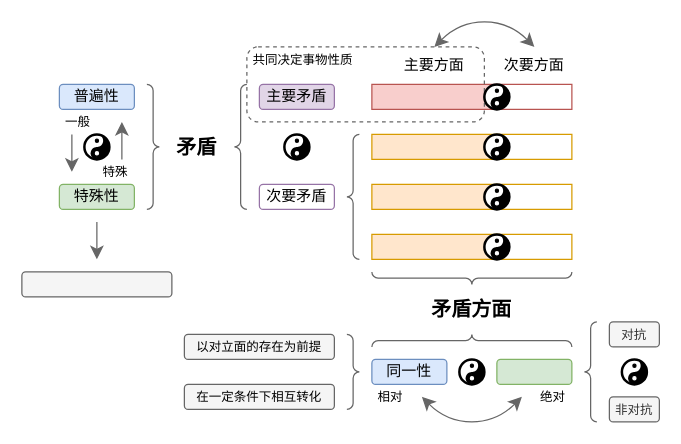
Image size: 681x444. Some labels were removed from this diagram. Each missing label, with the centre of its shape:
具体问题具体分析: the point at 96,284
斗争性: the point at 534,371
